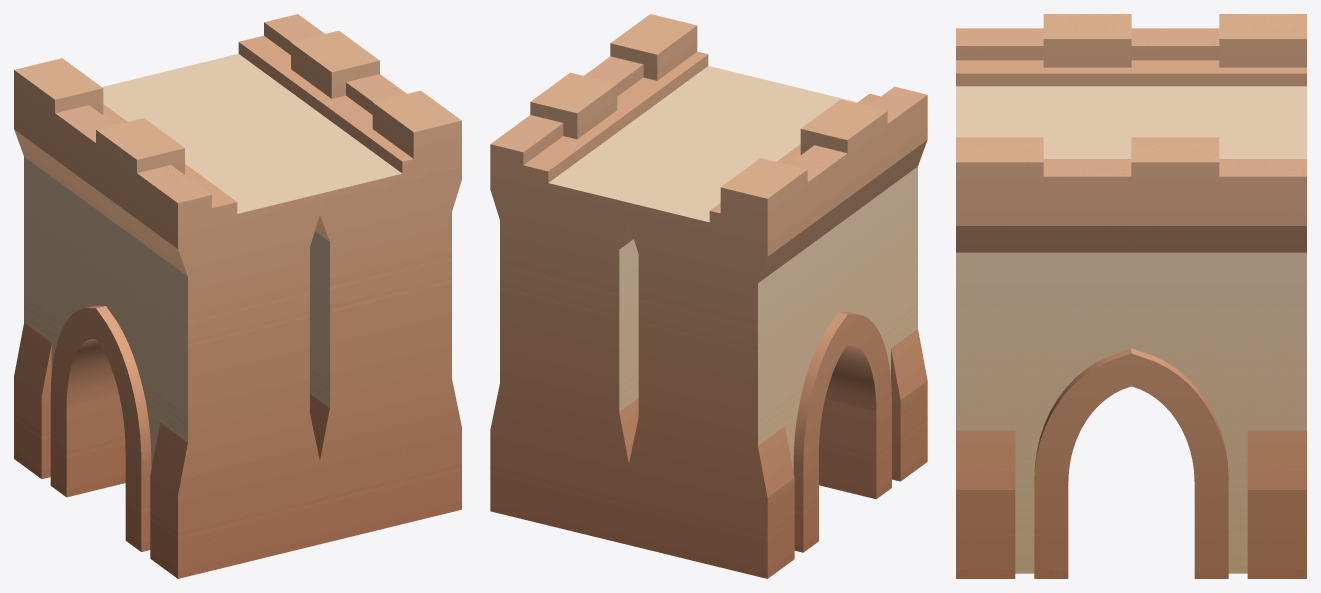
The model's file is wall_gate.glb.
The picture shows the model from 3 angles, left to right: view 1: azimuth 30°, elevation 25°; view 2: azimuth 150°, elevation 25°; view 3: azimuth 270°, elevation 25°; orthographic projection. The views are drawn at different scales.
Visible parts, largest first — view 1: wall-doorway (×2); view 2: wall-doorway (×2); view 3: wall-doorway (×2).
Boxes of the visible parts, box(x1,y1,x2,y2) form: wall-doorway (×2): box(14, 14, 461, 578); wall-doorway (×2): box(490, 14, 927, 578); wall-doorway (×2): box(956, 14, 1306, 578).
Size of the model in its own units: 1 by 1.31 by 1.
Materials: 1 (1 with a texture image).
